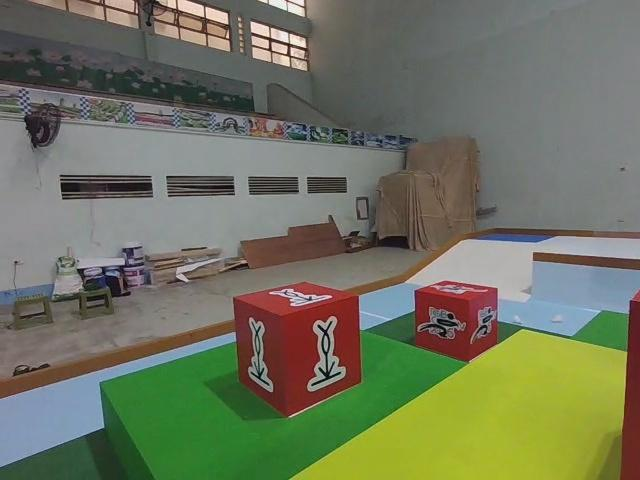R1: (411, 278, 500, 362)
R2 Real: (230, 277, 363, 416)
